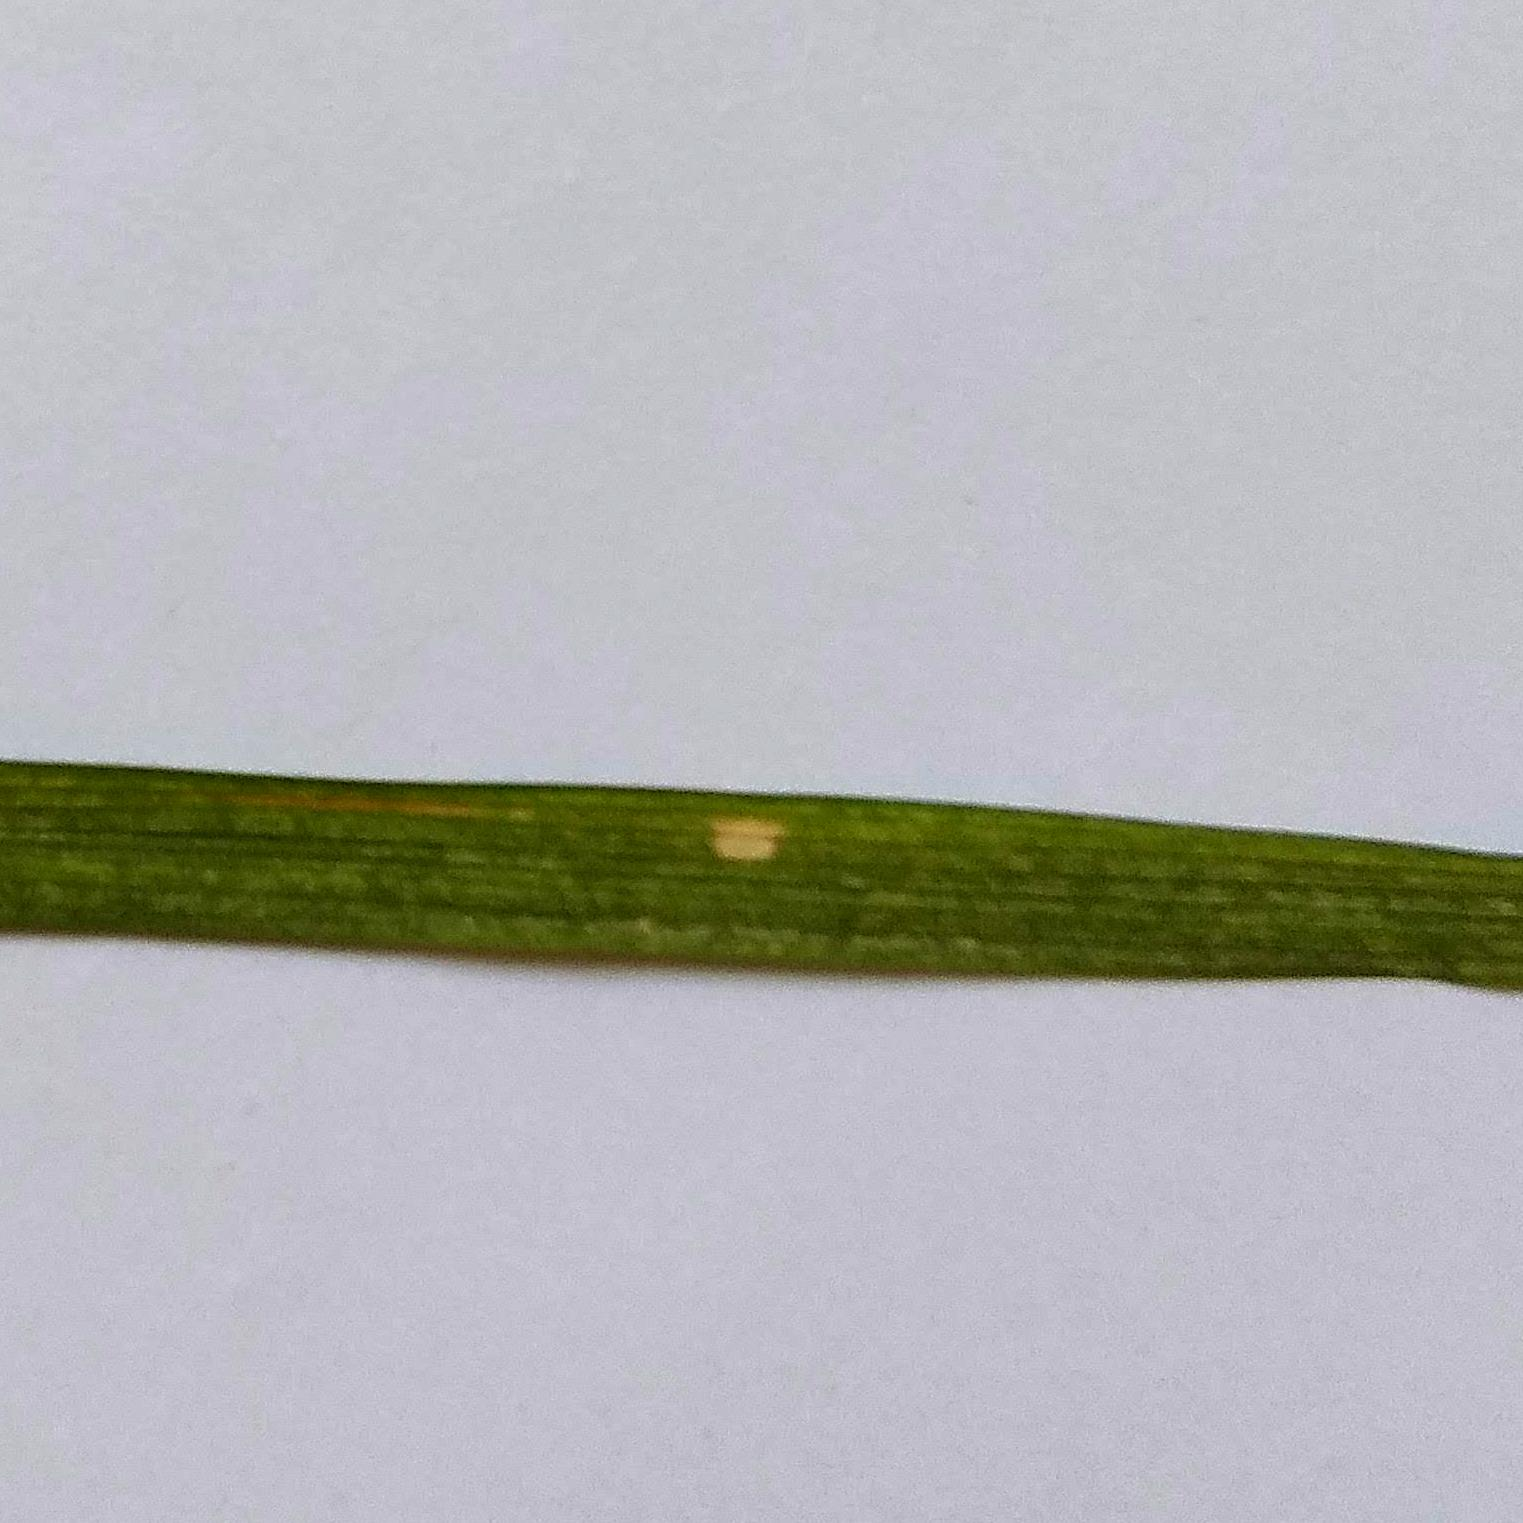1 RiceBlast: (688, 778, 814, 870)
